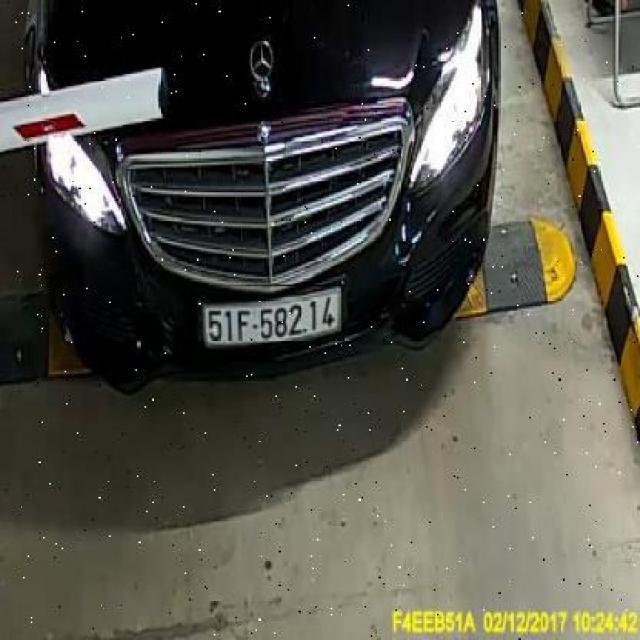number_plate: (198, 285, 344, 340)
